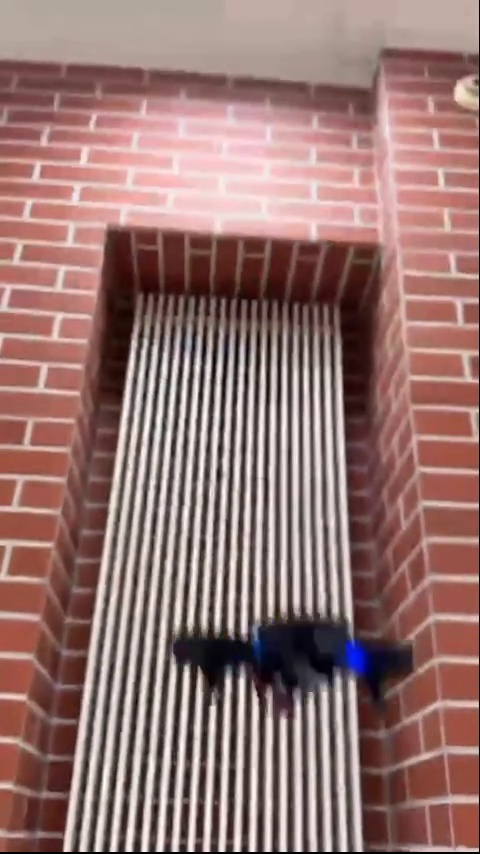drone: (182, 617, 416, 710)
